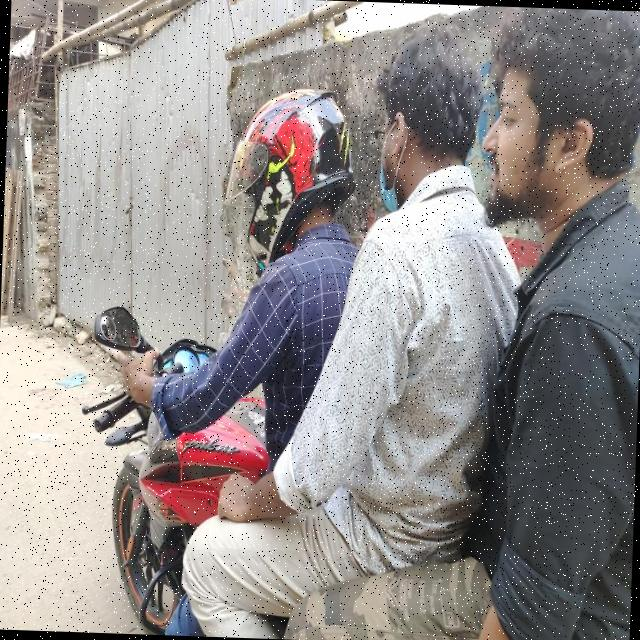Triple riding: (209, 8, 640, 461)
